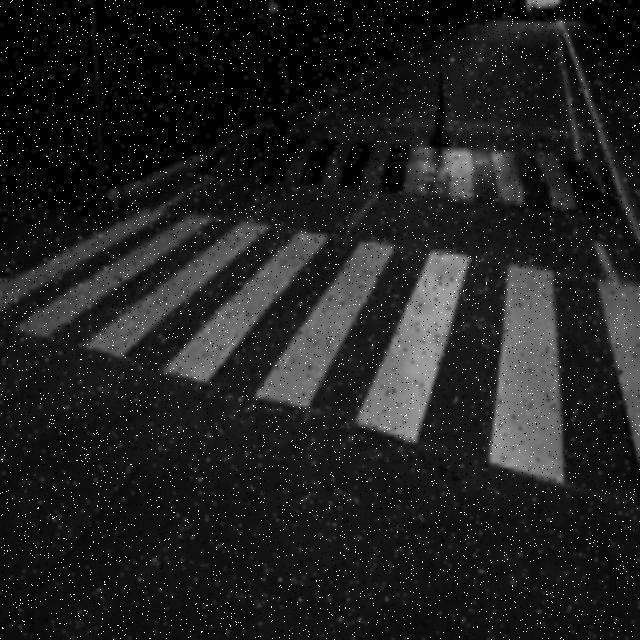Pedestrian crosswalk: (2, 213, 640, 512)
